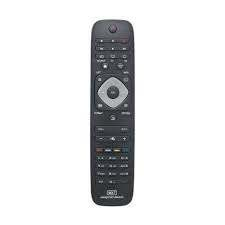remote control: (88, 21, 139, 205)
